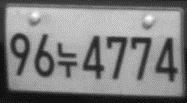4: (154, 36, 180, 84), (80, 34, 105, 79)
6: (33, 33, 54, 77)
7: (105, 35, 128, 80), (129, 36, 152, 81)
9: (9, 32, 30, 76)
누: (56, 42, 78, 78)
